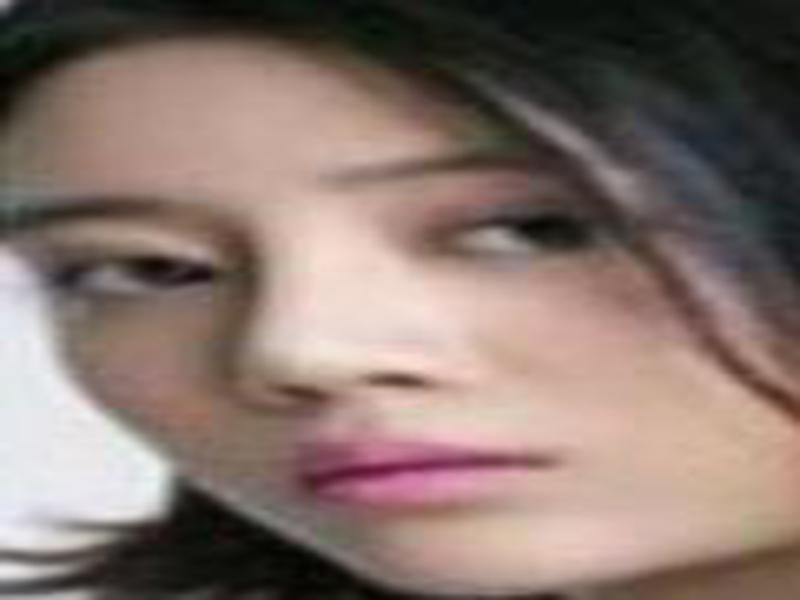without_mask: (1, 74, 766, 595)
